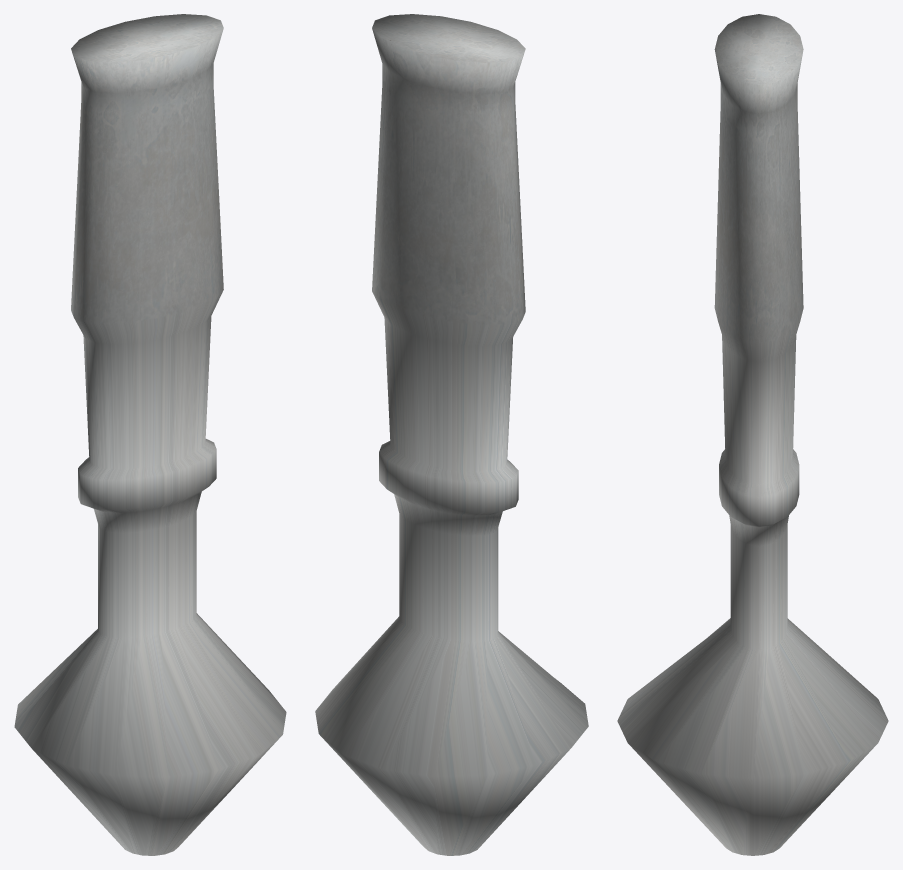
The model's file is Steel_handle_2.fbx.
3 renders of one model, left to right at view 1: azimuth 30°, elevation 25°; view 2: azimuth 150°, elevation 25°; view 3: azimuth 270°, elevation 25°, orthographic.
Parts seen in each view (by area): view 1: Cylinder.002; view 2: Cylinder.002; view 3: Cylinder.002.
Part boxes in pixels (left/top/right/bottom): Cylinder.002: left=14, top=14, right=286, bottom=855; Cylinder.002: left=315, top=14, right=588, bottom=855; Cylinder.002: left=617, top=14, right=888, bottom=855.
Bounding box in the file's own units: 5.48 × 17.71 × 5.48.
